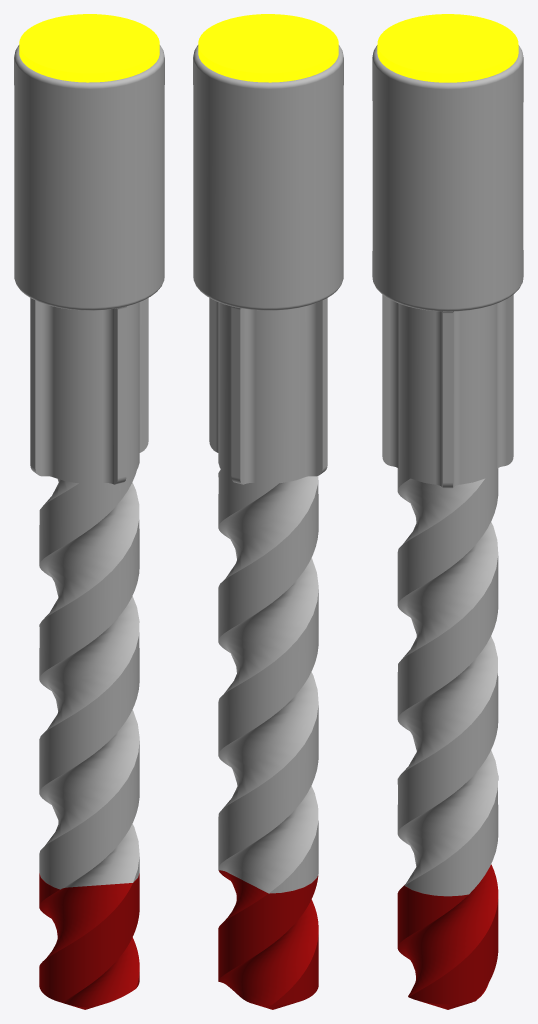
File: cortador.glb
3 views of the same model, side by side, from view 1: azimuth 30°, elevation 25°; view 2: azimuth 150°, elevation 25°; view 3: azimuth 270°, elevation 25° (orthographic).
Parts seen in each view (by area): view 1: 3DGeom-24, 3DGeom-23, Body_3; view 2: 3DGeom-24, 3DGeom-23, Body_3; view 3: 3DGeom-24, 3DGeom-23, Body_3.
Part boxes in pixels (x1,y1,x2,y2): 3DGeom-24: (14, 45, 164, 889); 3DGeom-23: (39, 873, 139, 1009); Body_3: (19, 14, 159, 82); 3DGeom-24: (193, 45, 343, 893); 3DGeom-23: (218, 870, 318, 1009); Body_3: (198, 14, 338, 82); 3DGeom-24: (372, 45, 523, 896); 3DGeom-23: (397, 864, 498, 1009); Body_3: (377, 14, 518, 82).
Bounding box in the file's own units: 0.15 × 1.06 × 0.15.
